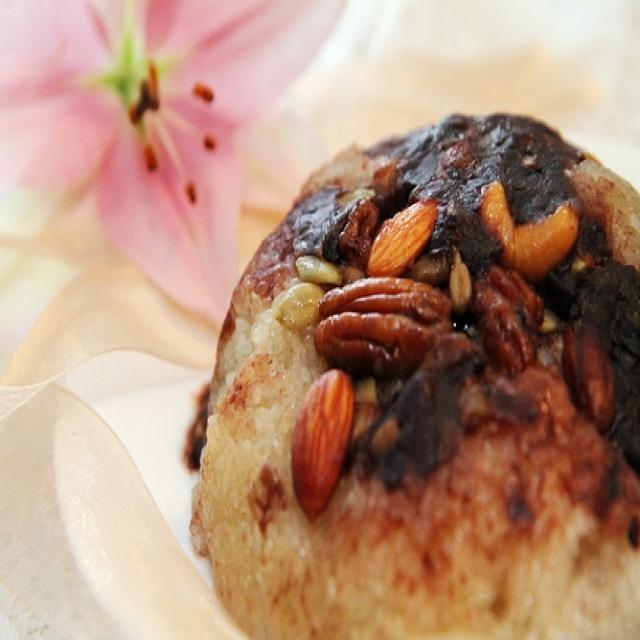米饭主食: (141, 95, 617, 630)
